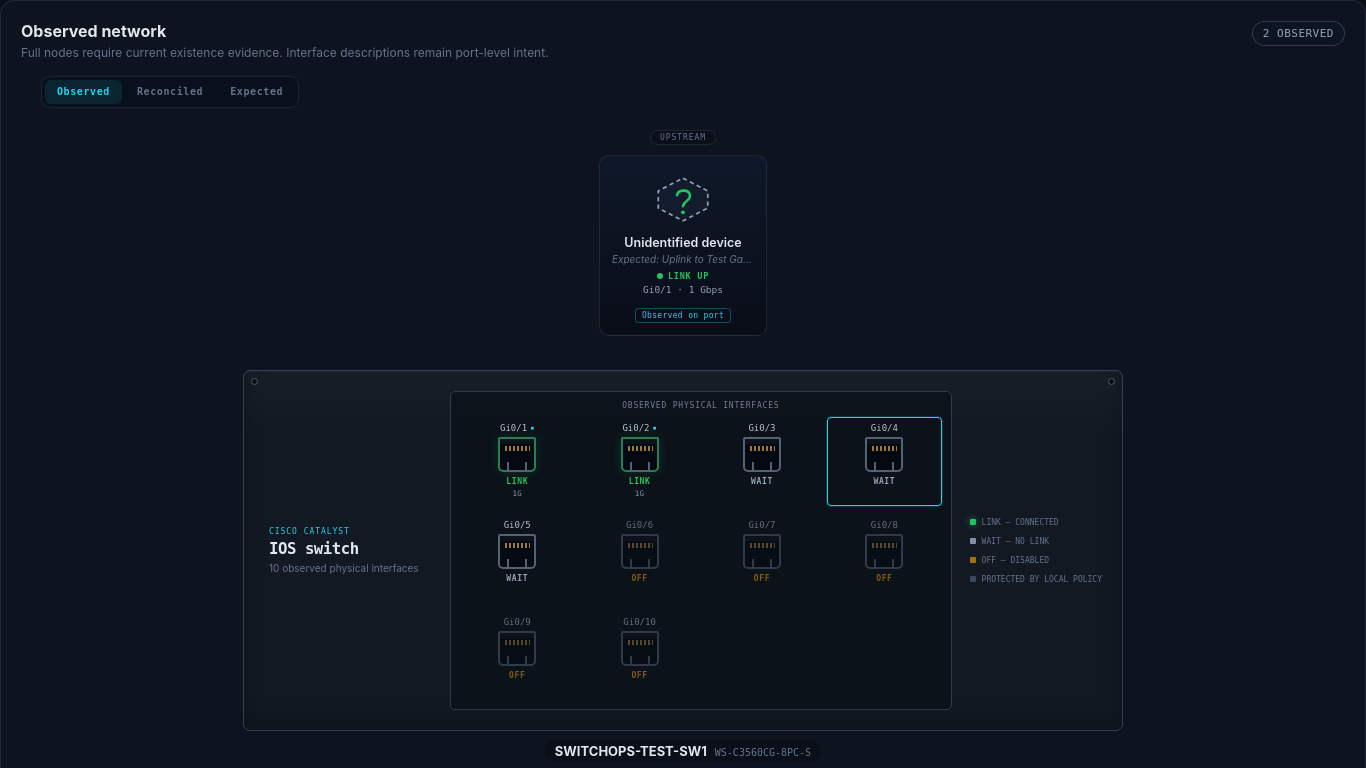
Test: network map › offers explicit observed, reconciled, and expected knowledge views
Click the tab "Expected".
click(257, 92)  # box 218,80 -> 295,104
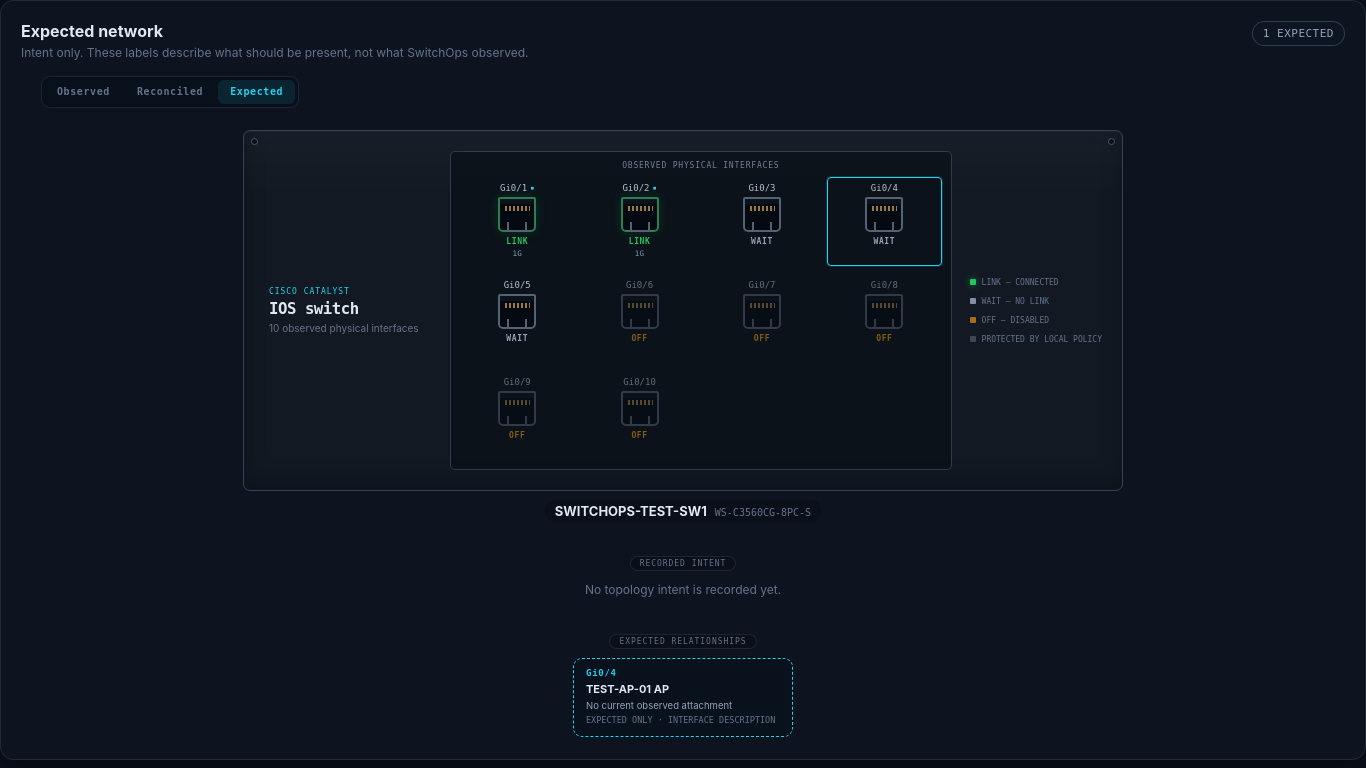
Result: the heading "Expected network" is shown at 21,21 -> 163,41
